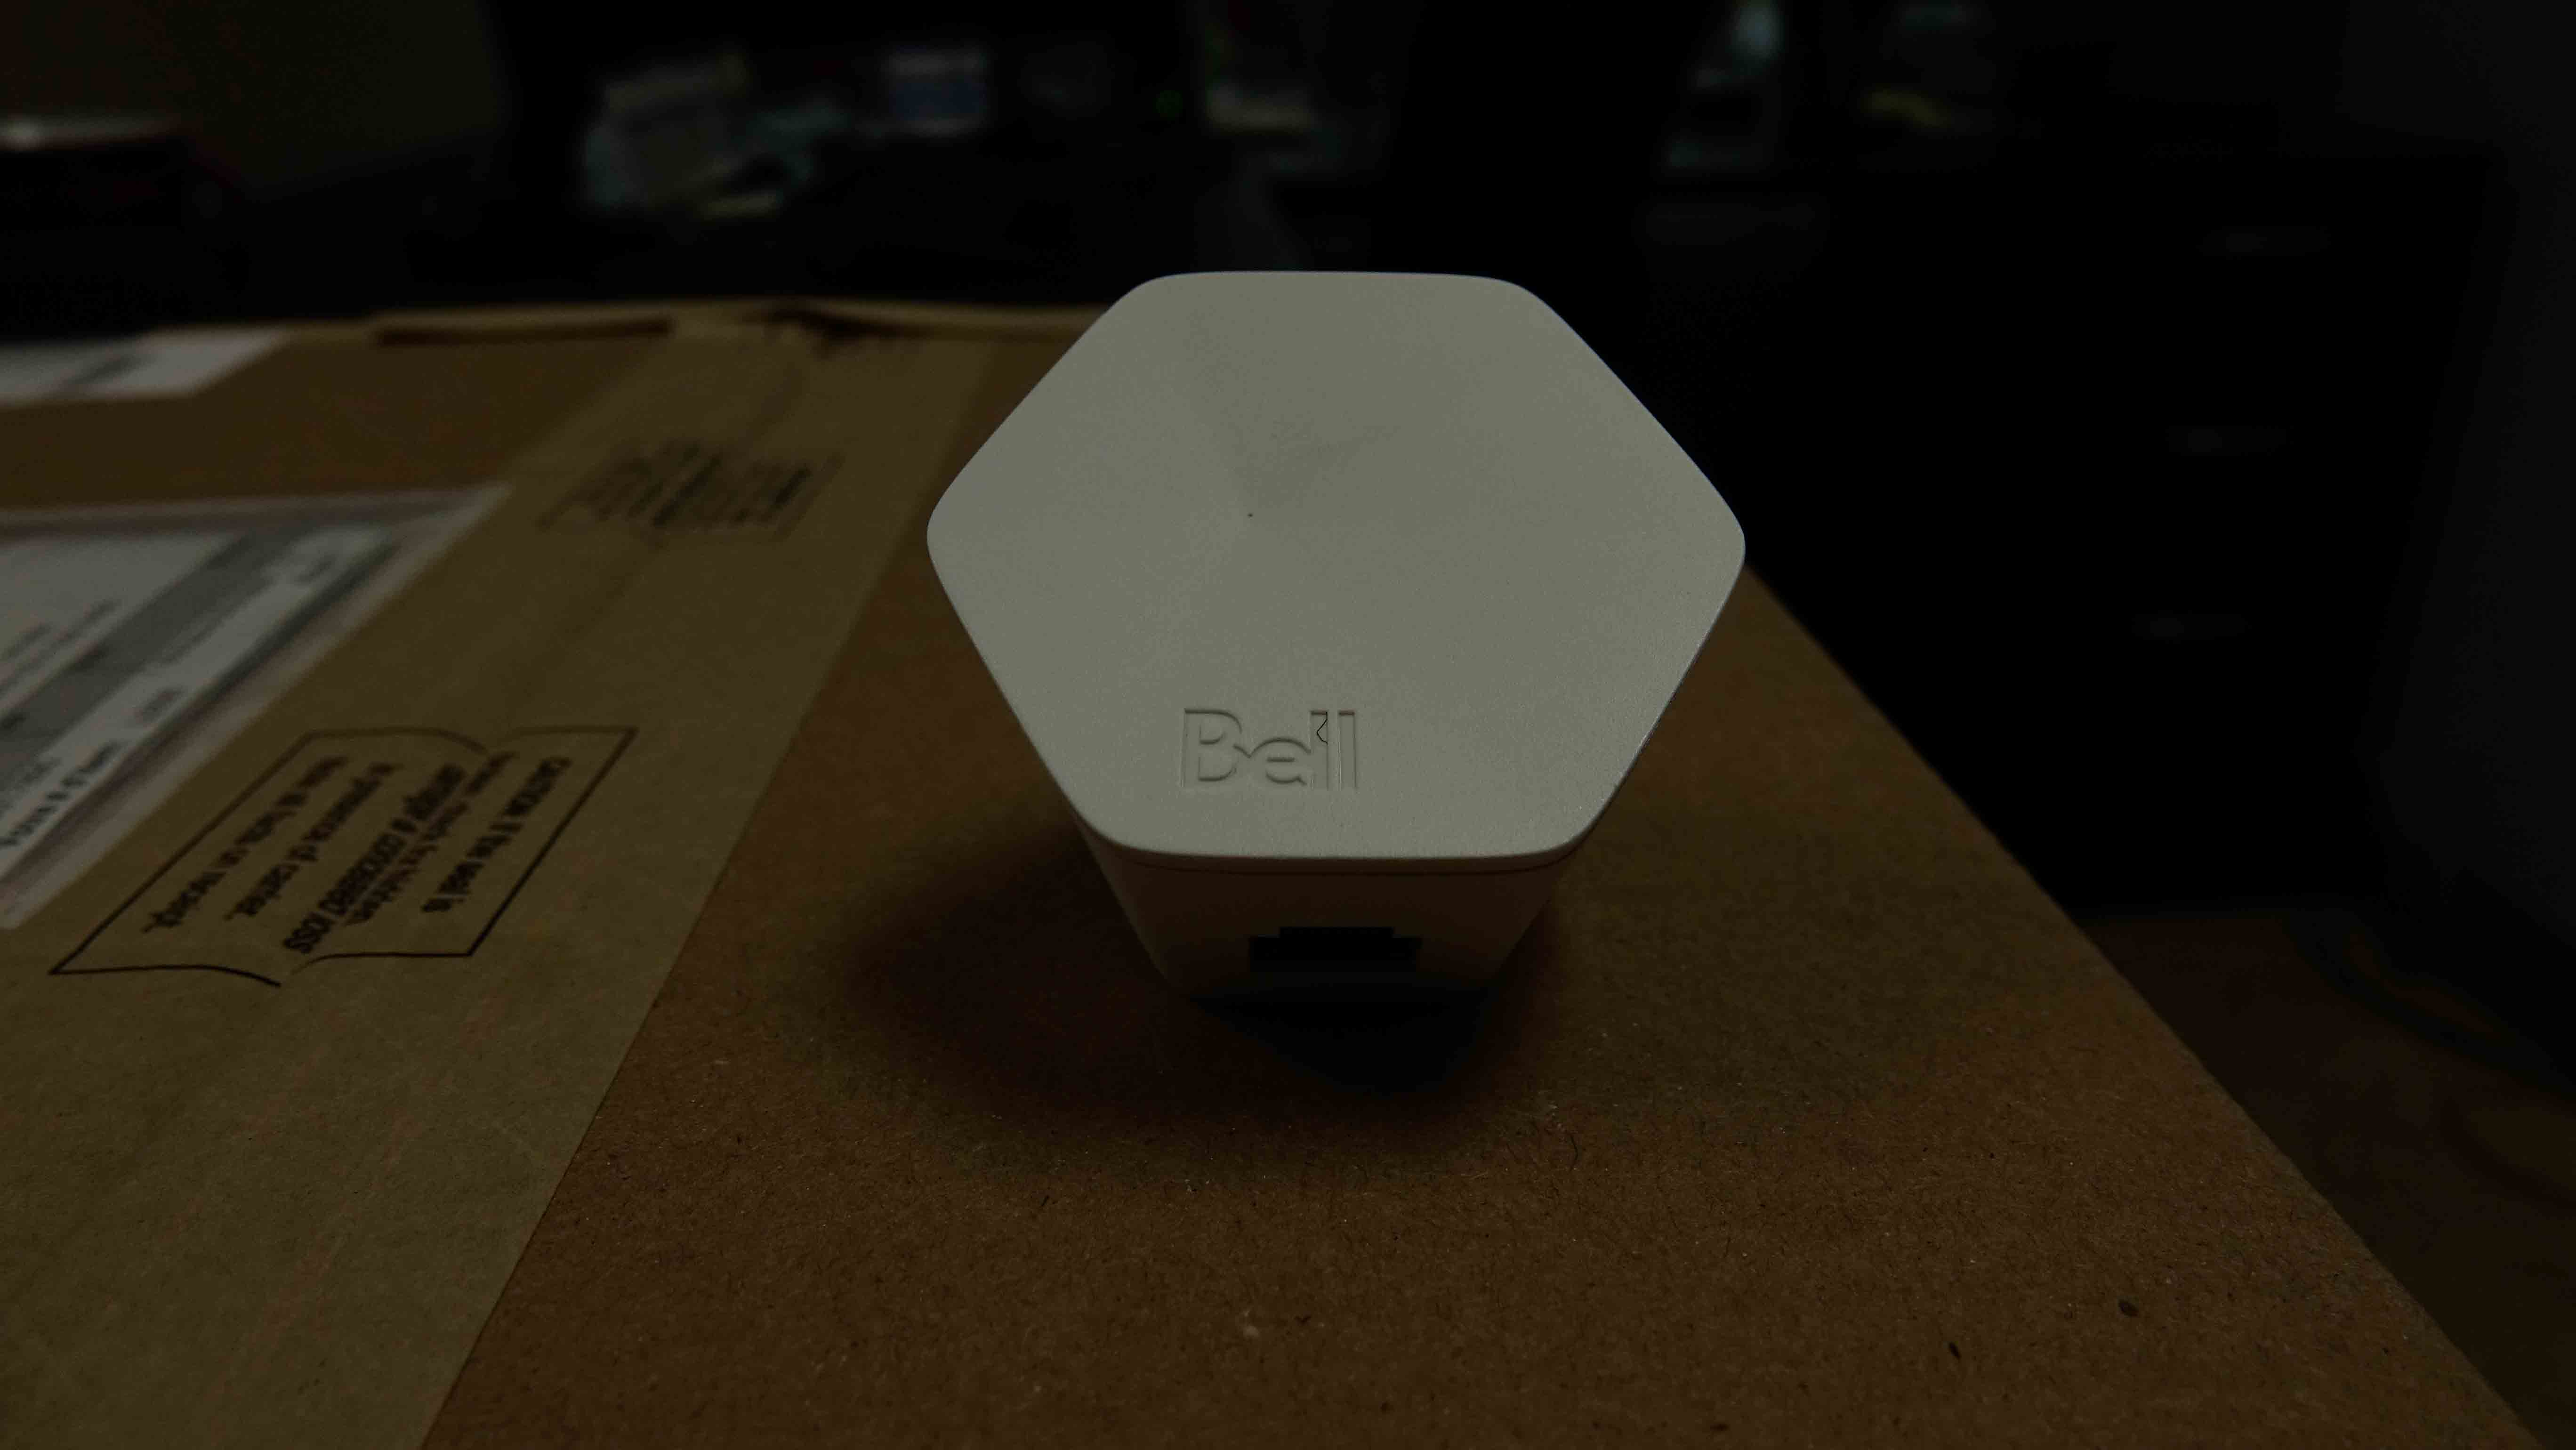pod: (911, 260, 1759, 1027)
